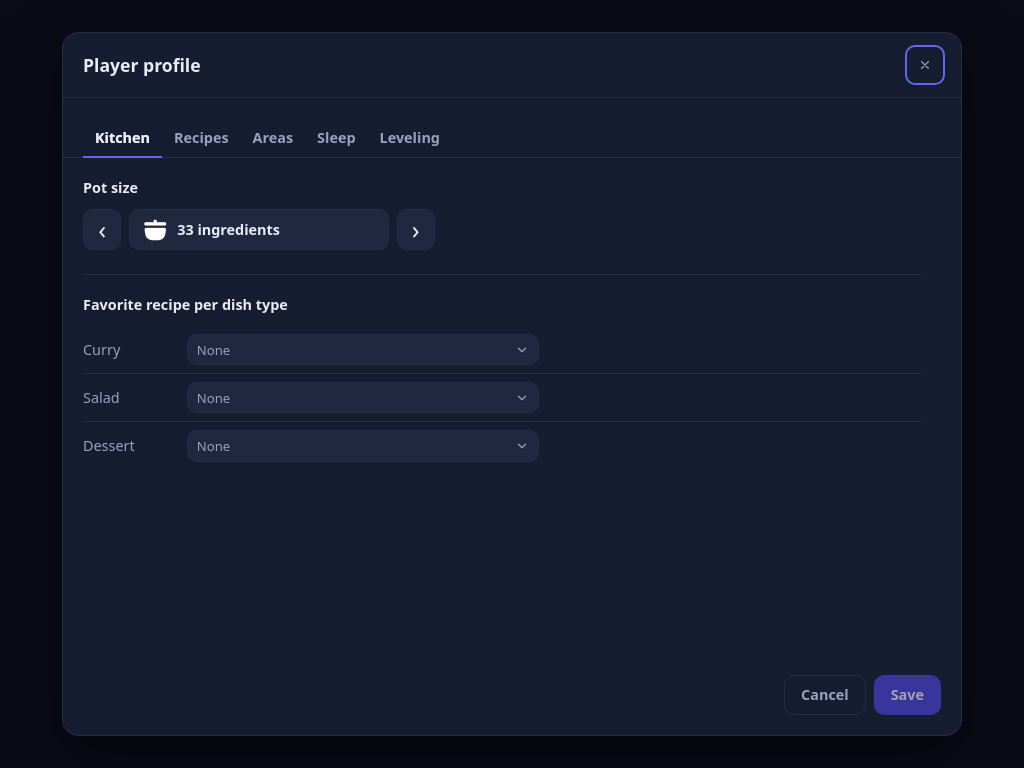
Scenario: ProgressModal — Guardar › keeps the modal open with the draft intact and shows the error when the save fails
The width and height of the screenshot is (1024, 768).
Expected: the text "33 ingredients" is shown, [177,220,280,239]
Click the button named "Bigger pot" at (416, 230), box [397,209,435,250]
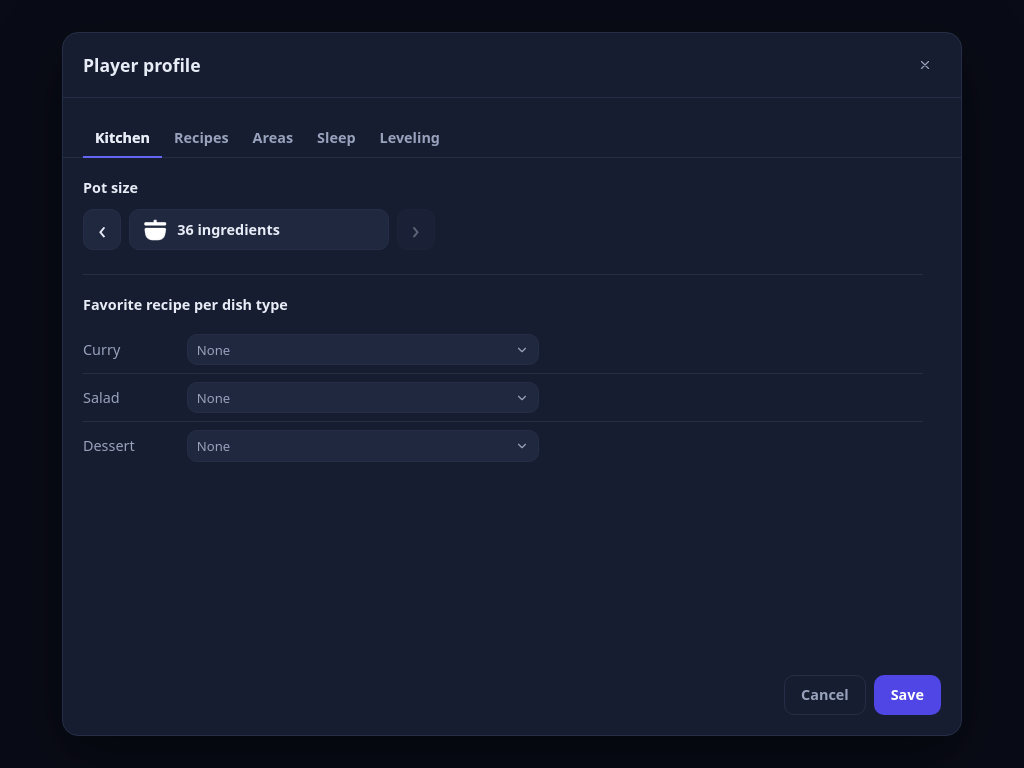
Expected: the text "36 ingredients" is shown, [177,220,280,239]
Click the button "Save" at (907, 695), box [874,675,941,715]
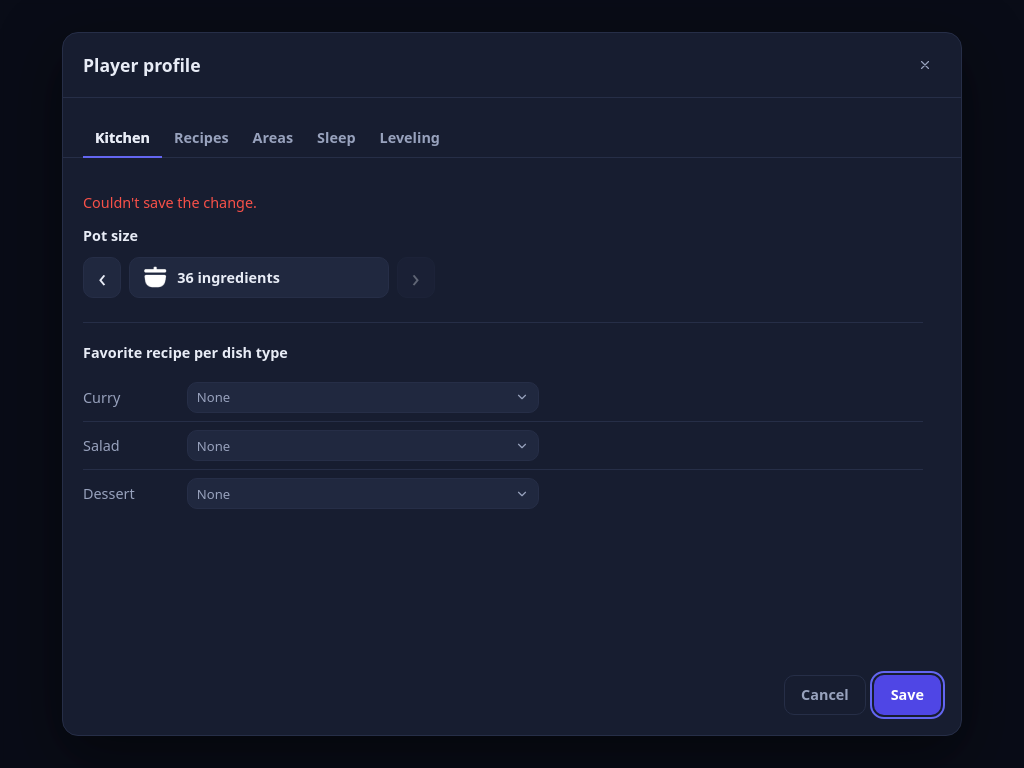
Expected: the text "36 ingredients" is shown, [177,268,280,287]
Expected: the message reads "Couldn't save the change.", [83,193,257,212]
